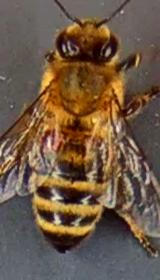varroa_mite: (33, 119, 69, 155)
